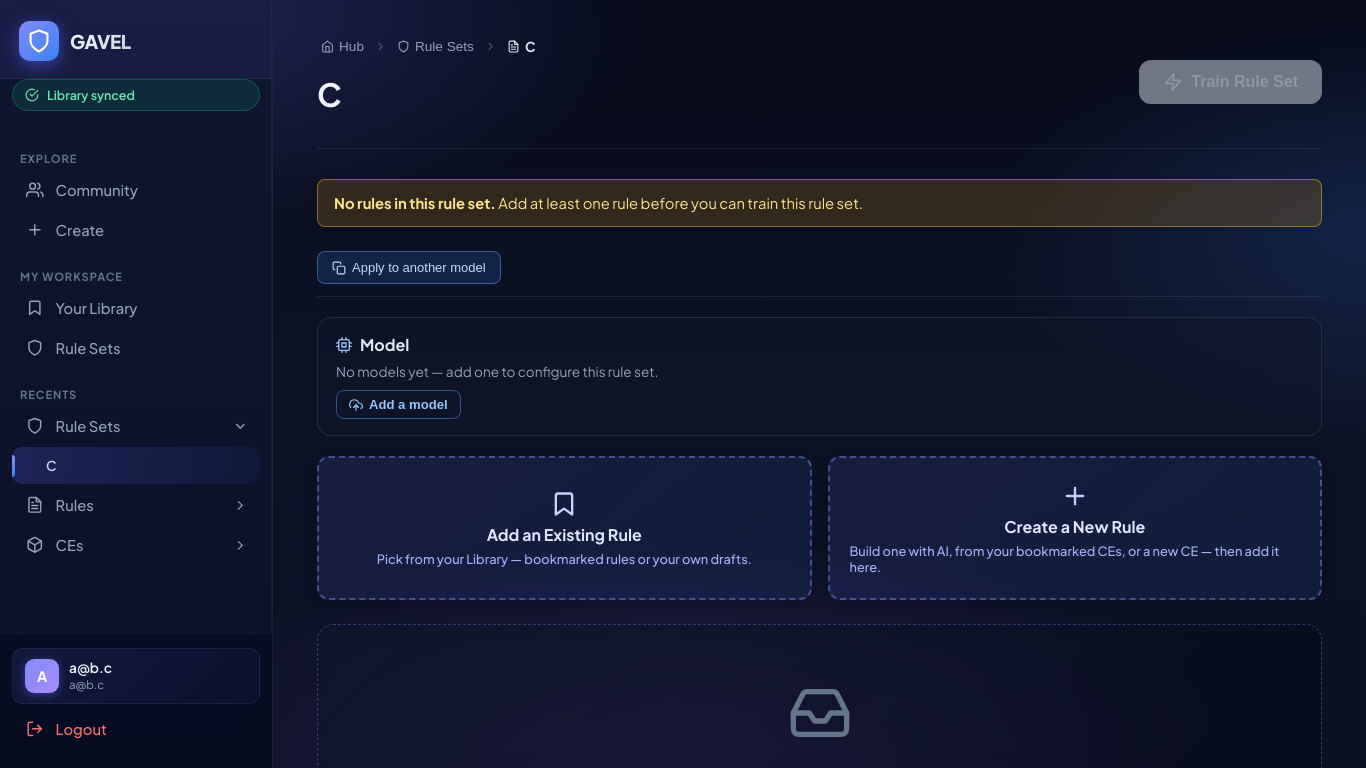
Scenario: RulesManager — add existing rule modal › deselecting a checked rule removes it (toggle)
This screenshot has width=1366, height=768.
Click the text "Add an Existing Rule" at (564, 534), box [487,524,642,545]
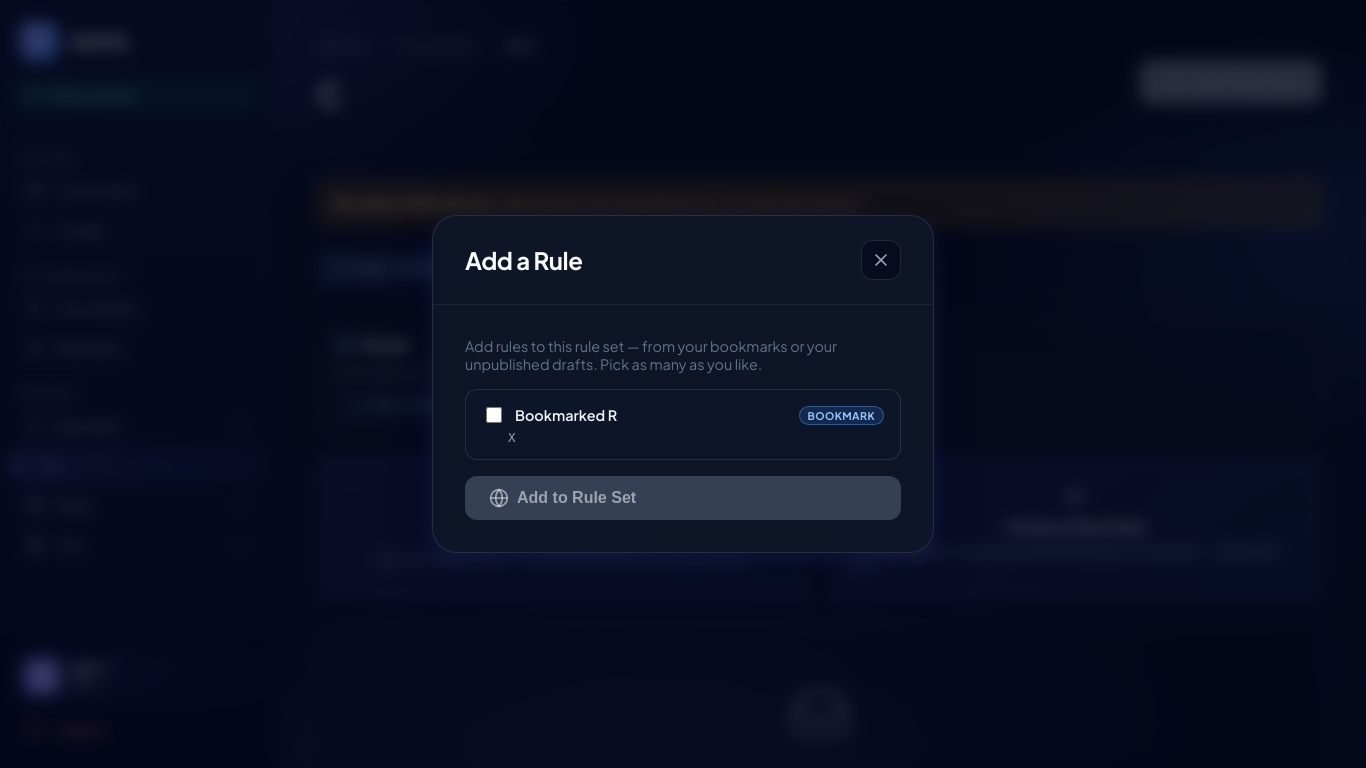
Click the text "Bookmarked R" at (566, 415), box [515,406,617,424]
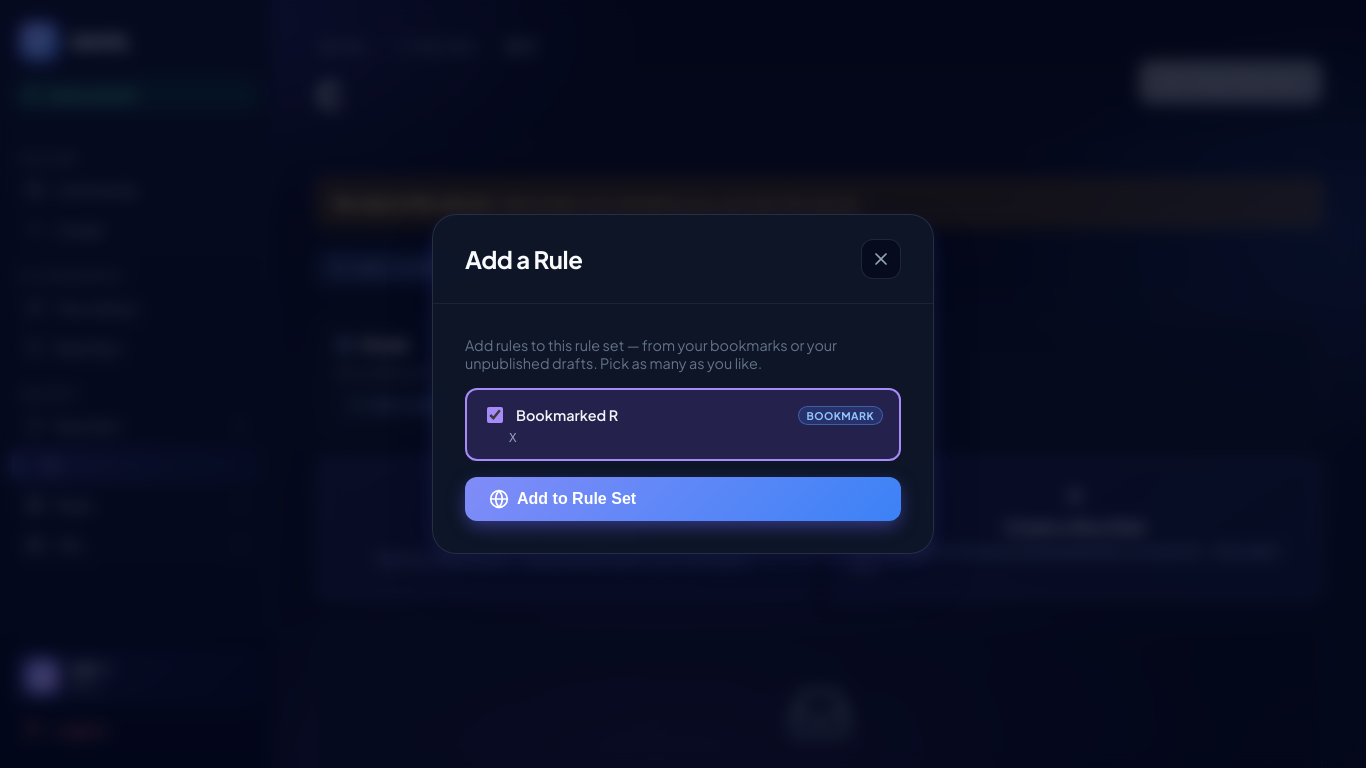
Check: the text "Add to Rule Set" is enabled, box [517,490,636,508]
Click the text "Bookmarked R" at (567, 415), box [516,406,618,424]
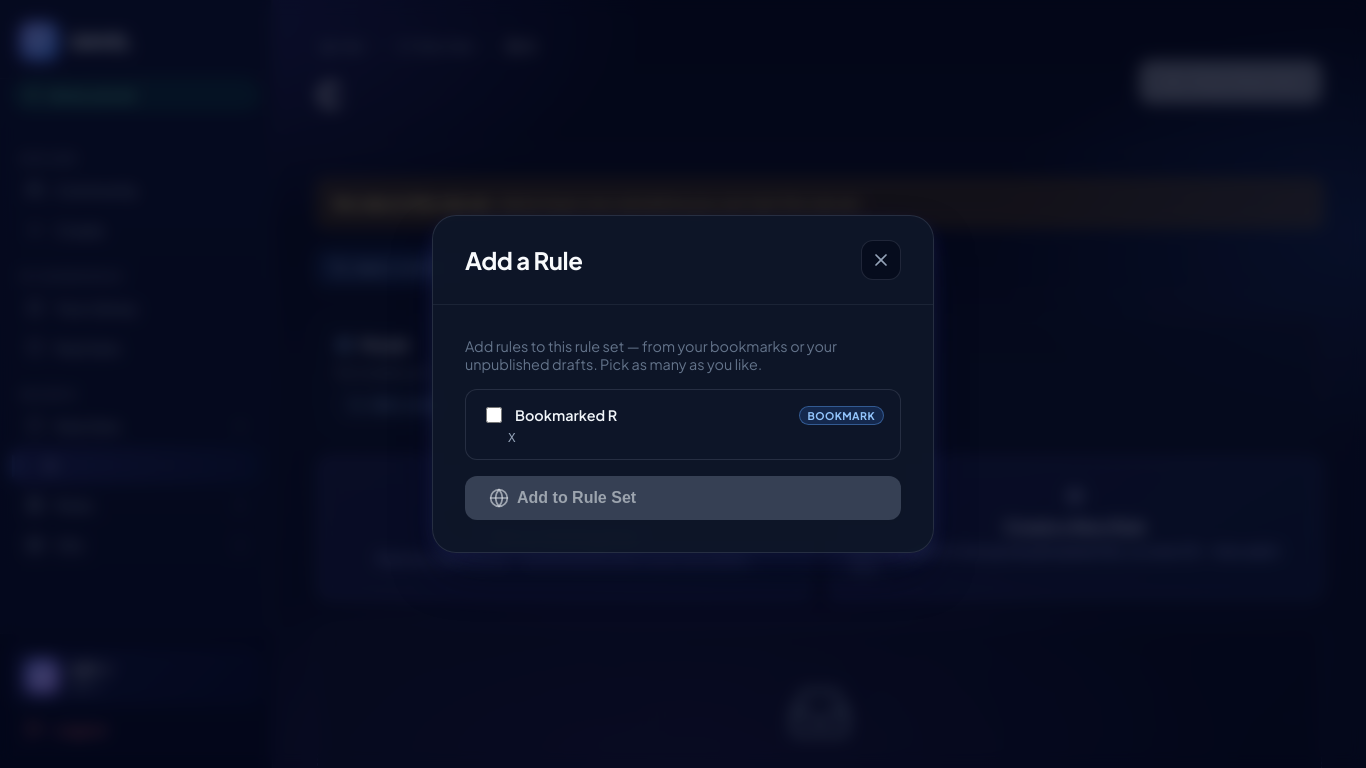
Check: the button "Add to Rule Set" is disabled, box [465,476,901,520]
